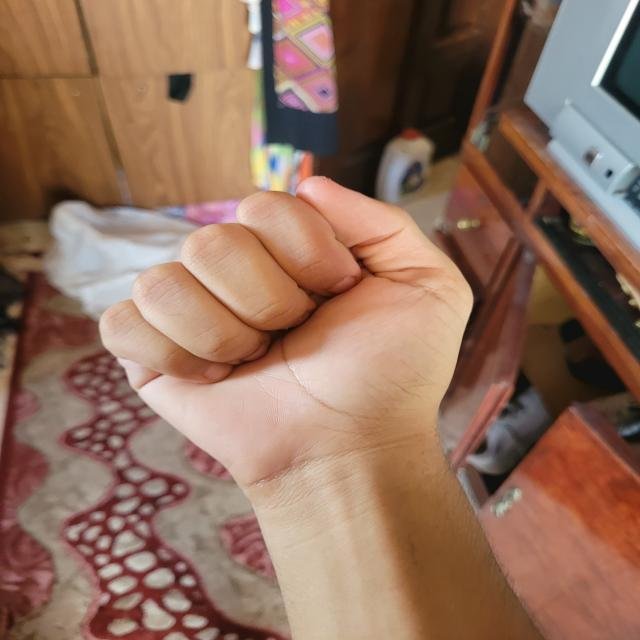Closed Hand: (98, 173, 478, 488)
